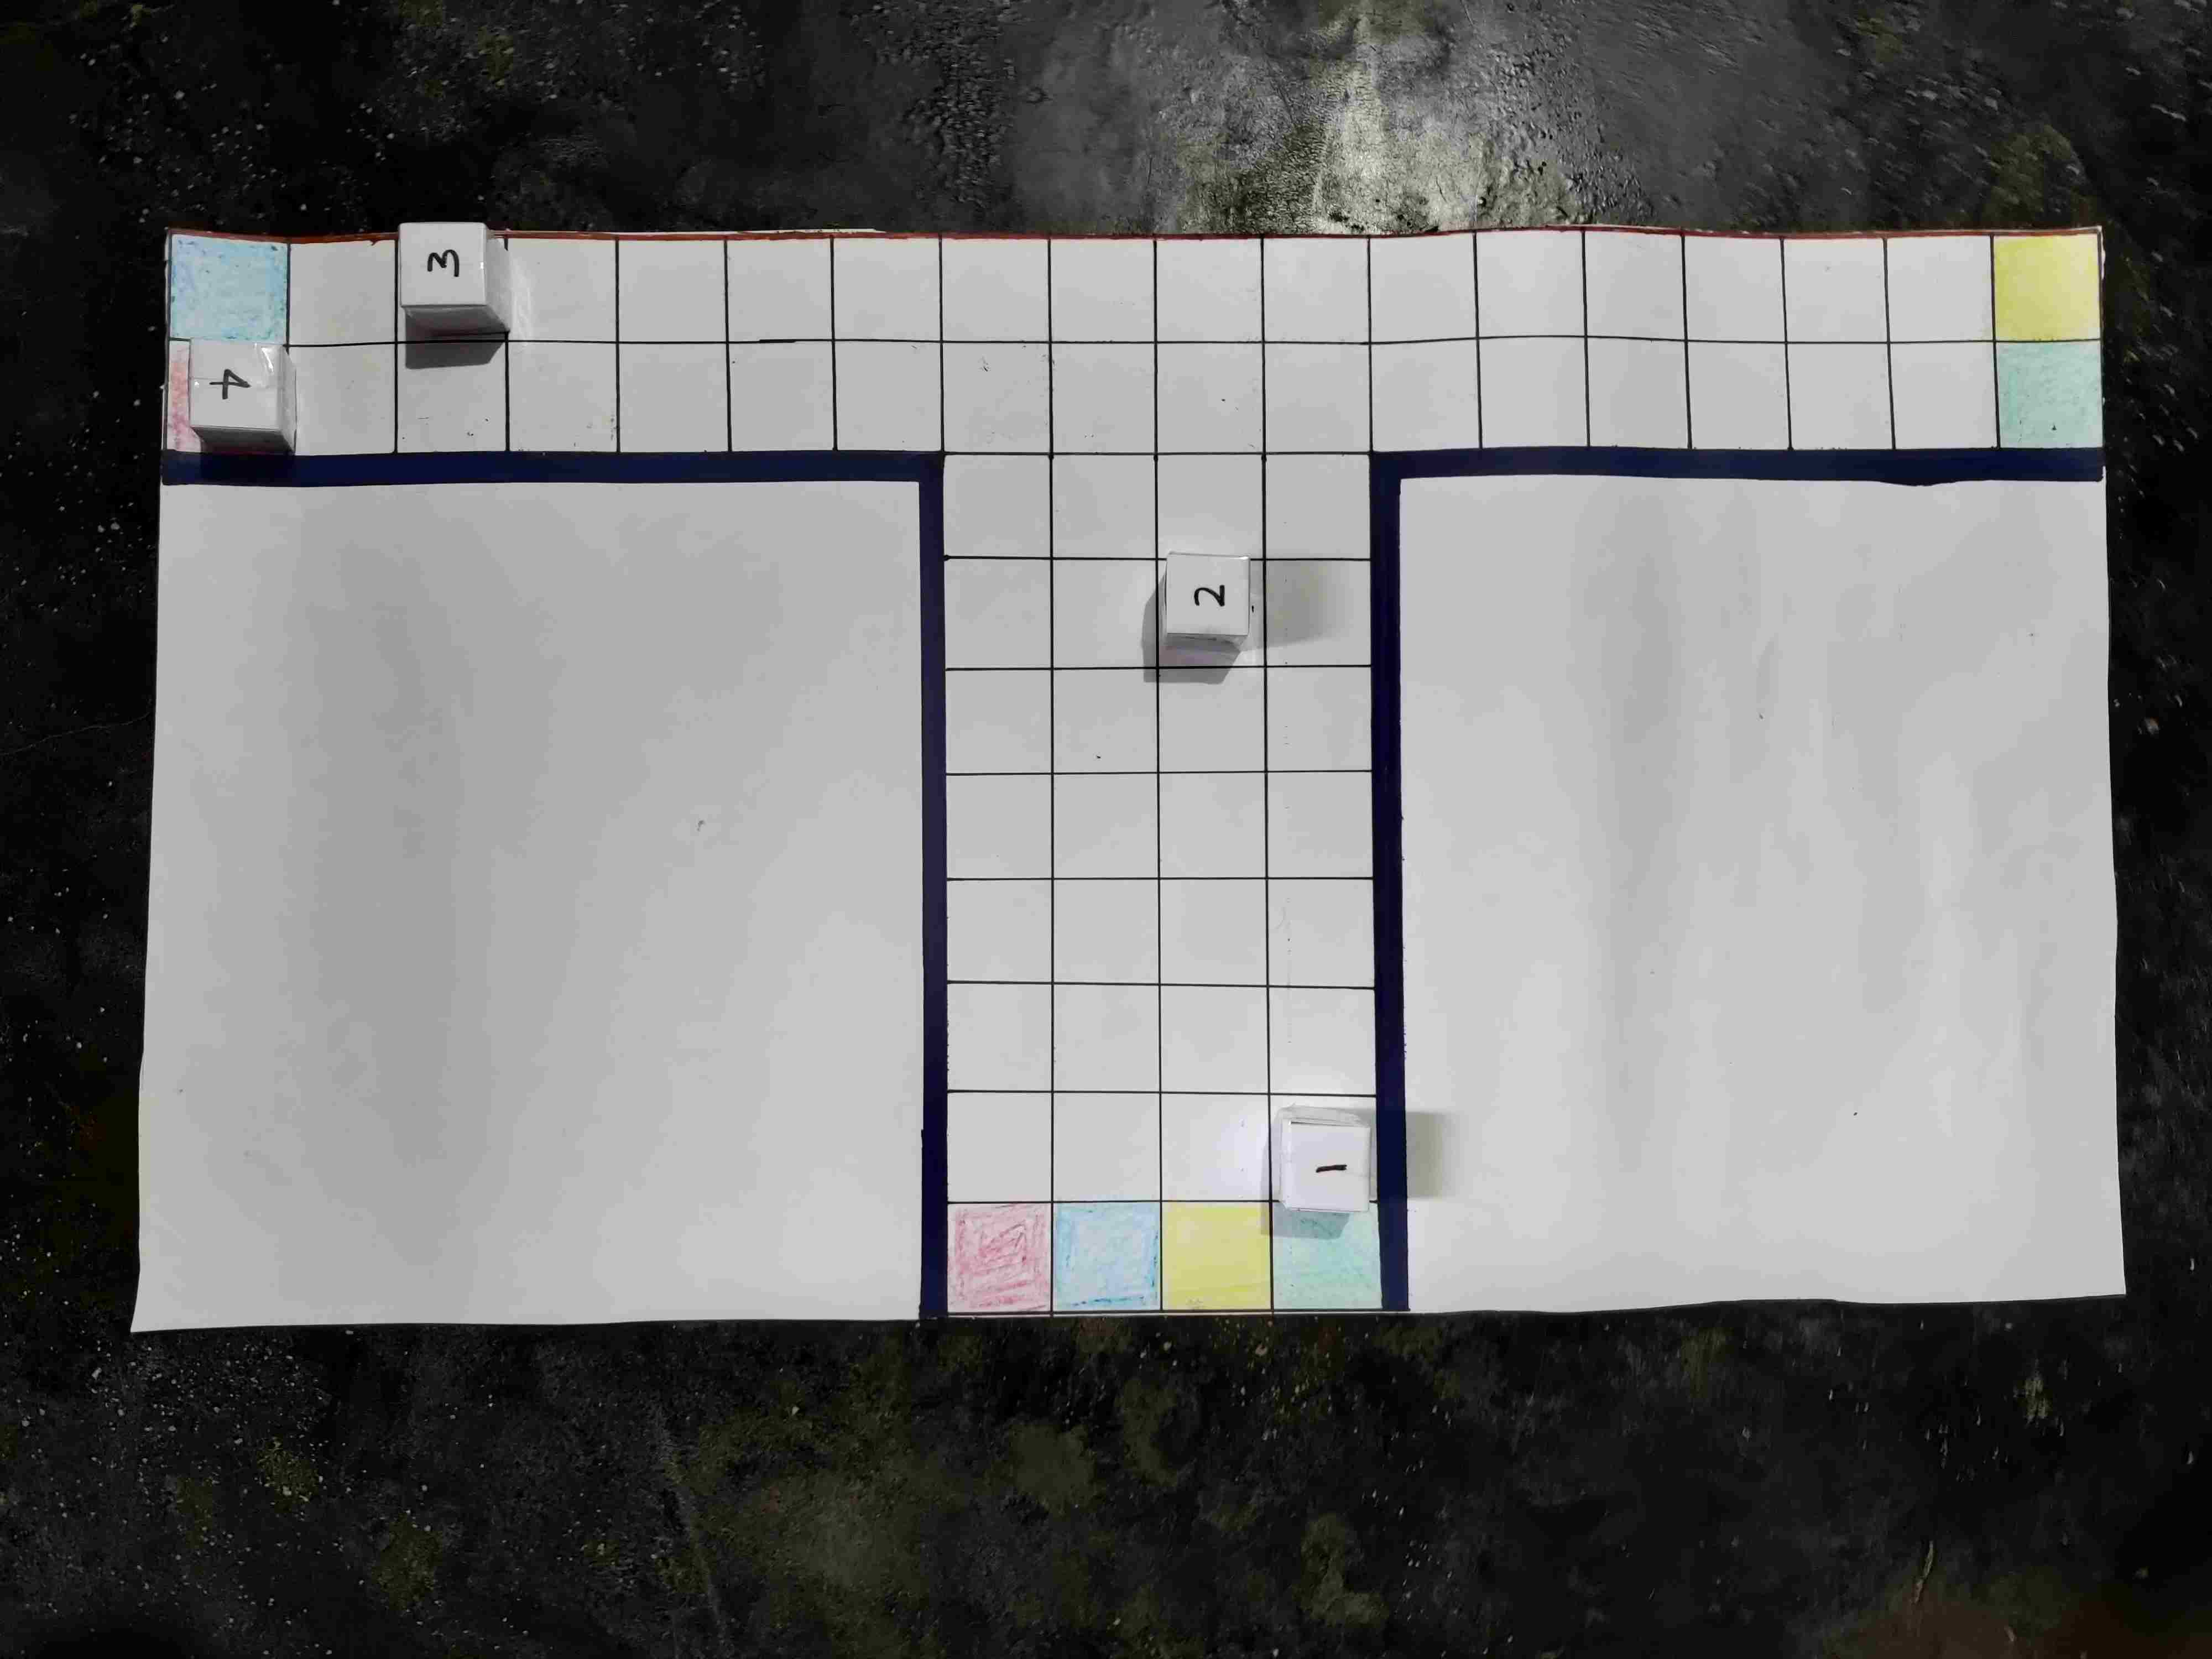arena: (84, 247, 2116, 1312)
bot: (193, 1145, 284, 1227), (1001, 1133, 1089, 1215), (1923, 1112, 2017, 1187), (1106, 897, 1191, 976)
